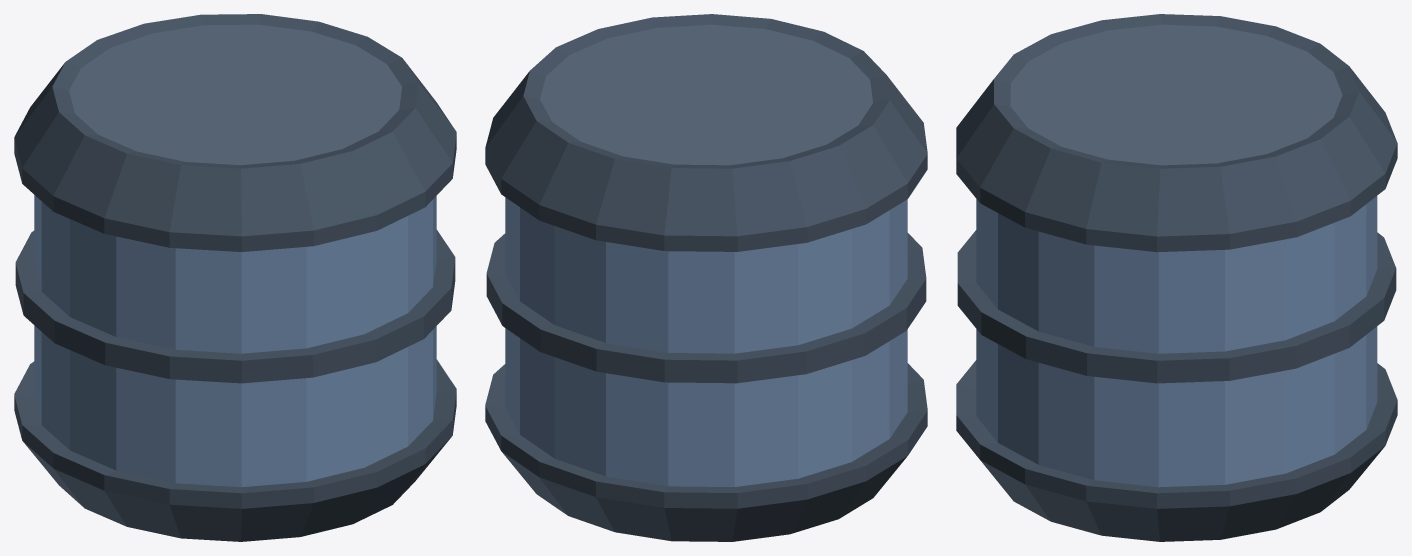
Rendered from barrel.fbx.
3 views of the same model, side by side, from view 1: azimuth 30°, elevation 25°; view 2: azimuth 150°, elevation 25°; view 3: azimuth 270°, elevation 25° (orthographic).
Visible parts, largest first — view 1: Cylinder; view 2: Cylinder; view 3: Cylinder.
Boxes of the visible parts, <box> form: Cylinder: <box>14,14,456,541</box>; Cylinder: <box>485,14,927,541</box>; Cylinder: <box>956,14,1397,541</box>.
Bounding box in the file's own units: 110 × 102 × 109.
